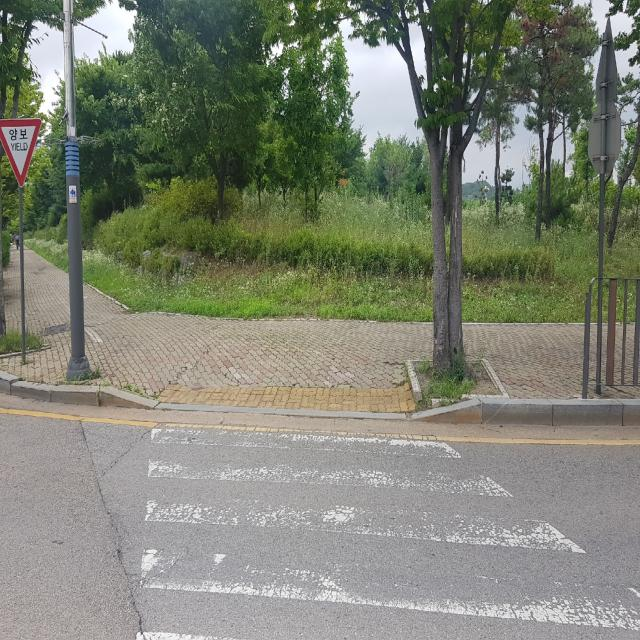횡단보도: (136, 425, 640, 639)
